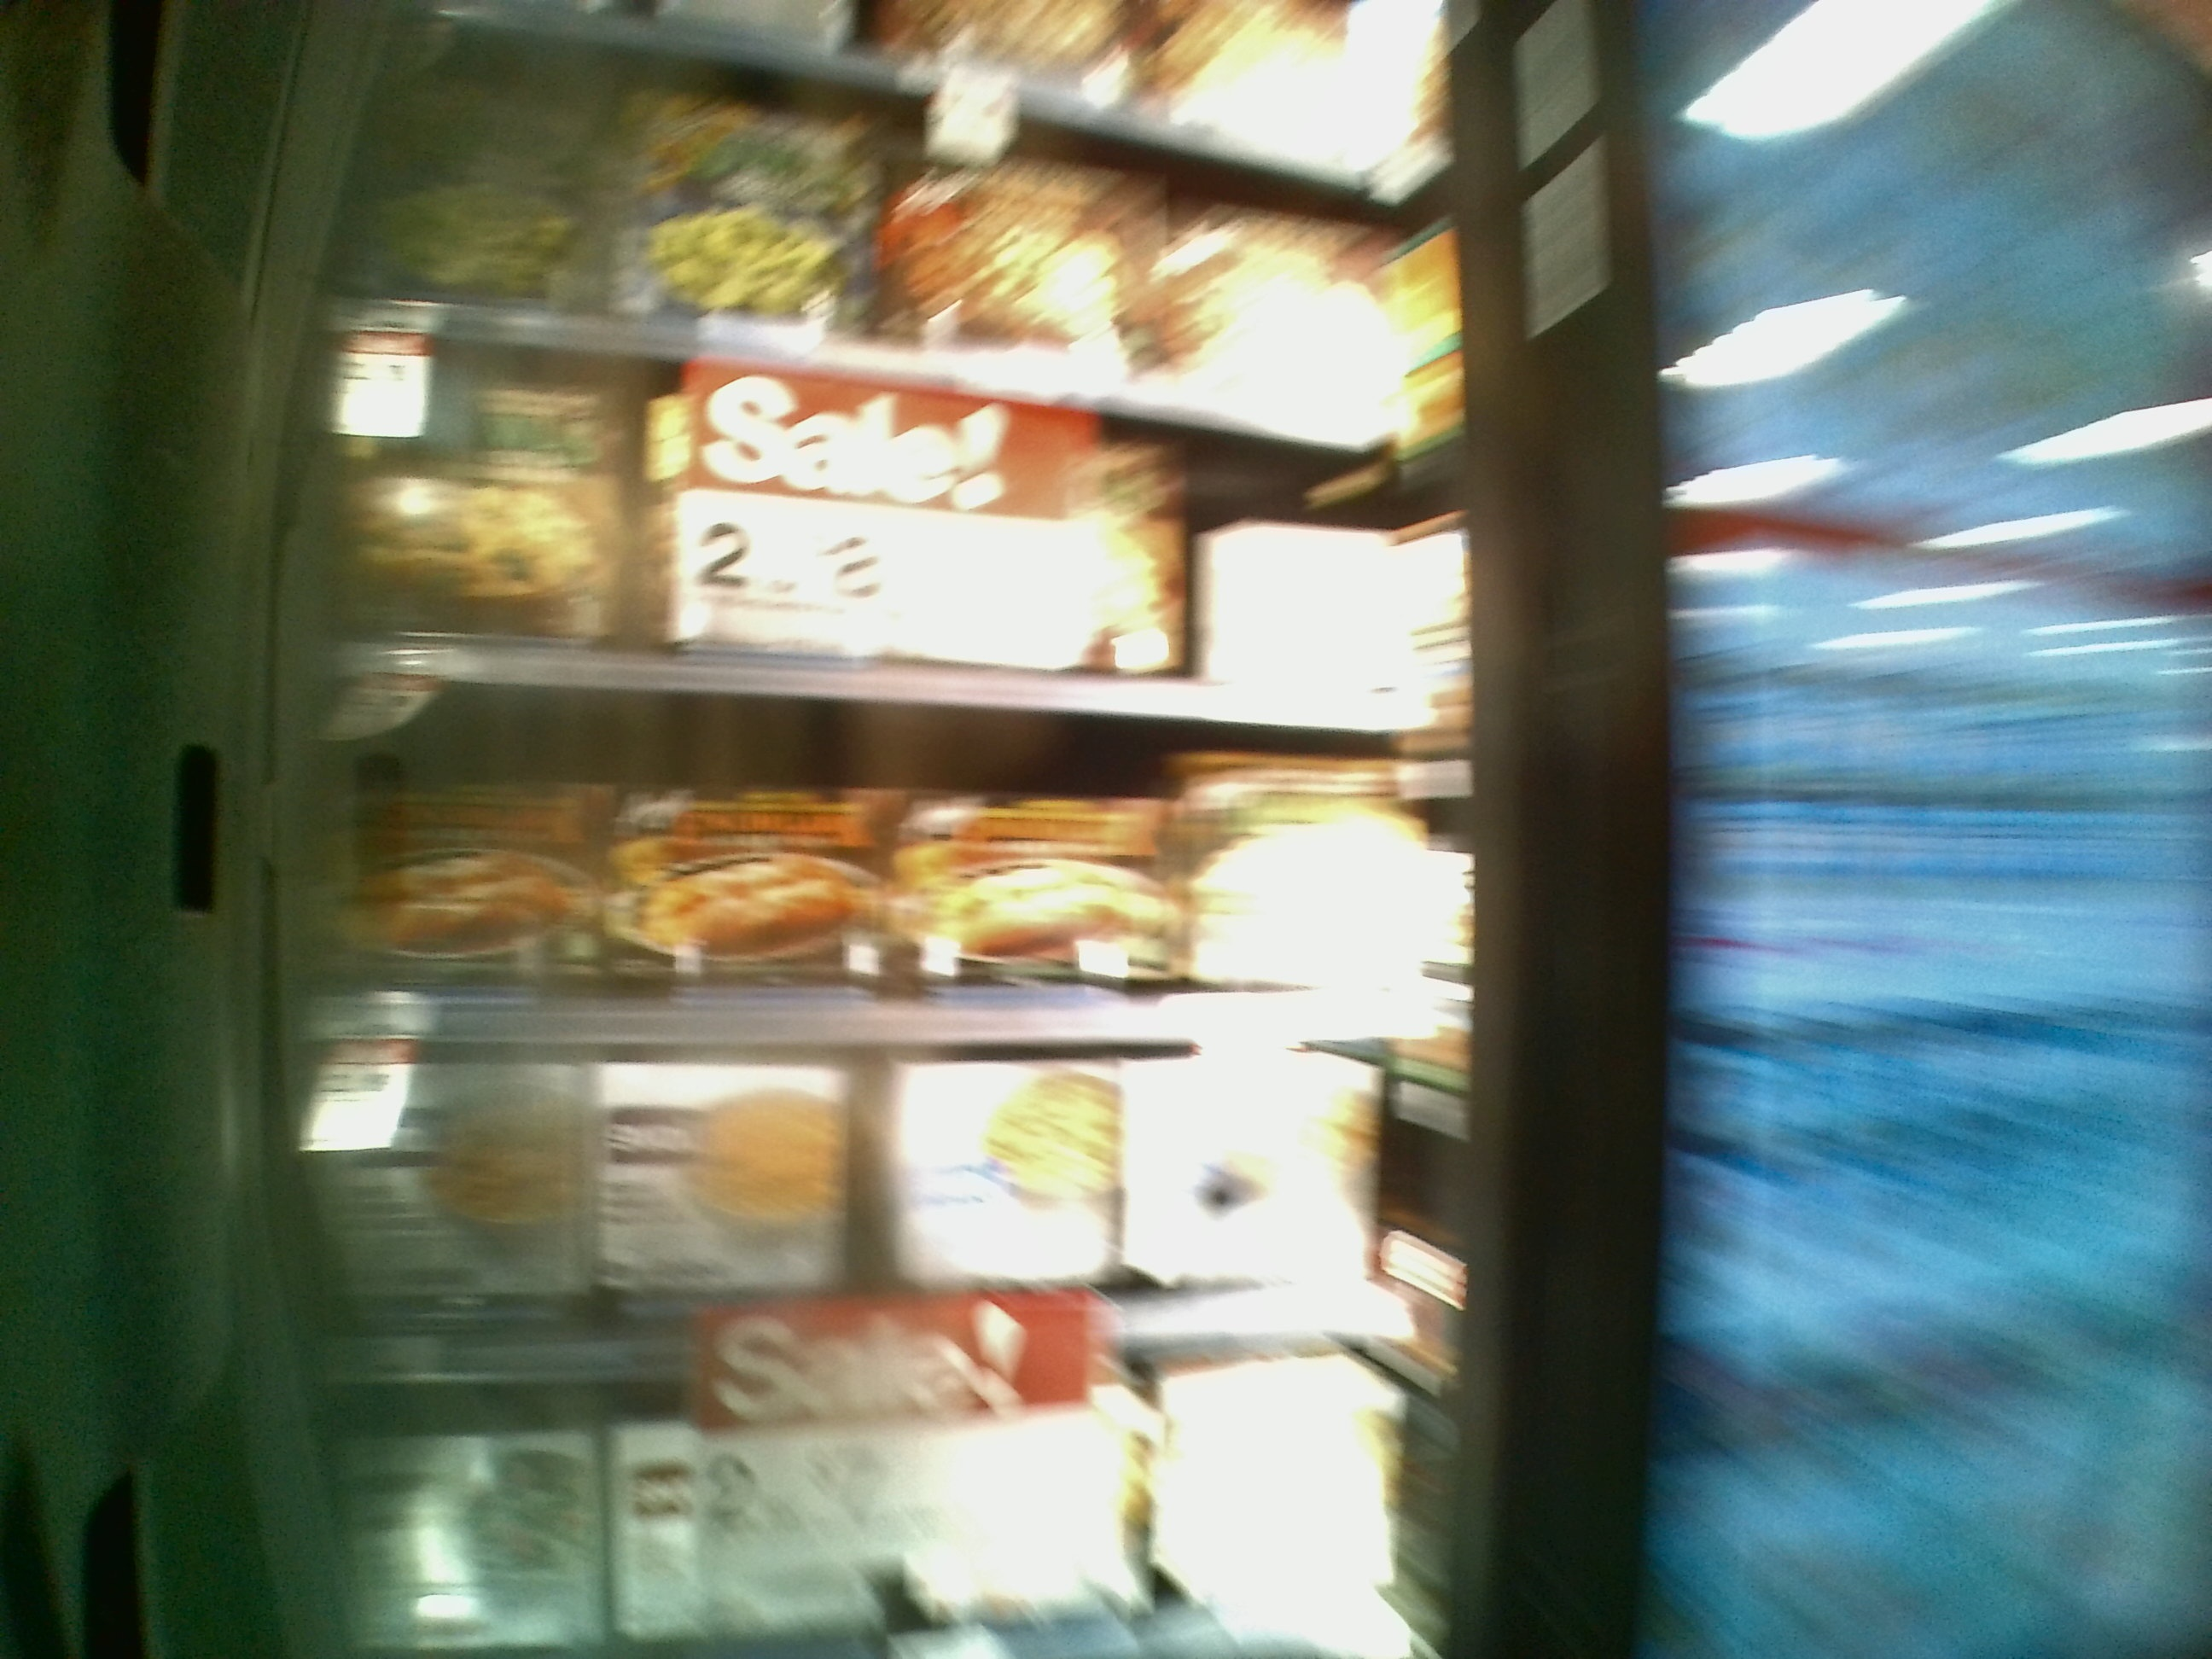shelf: (314, 394, 1467, 735), (310, 711, 1468, 1047), (300, 1037, 1461, 1364), (336, 1368, 1451, 1659)
